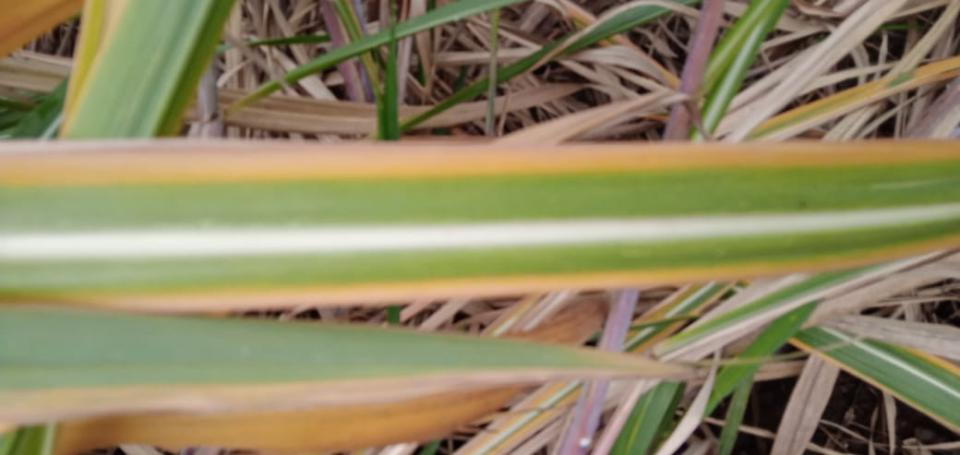Yellow: (1, 231, 958, 315), (0, 140, 959, 187), (0, 371, 538, 454)
